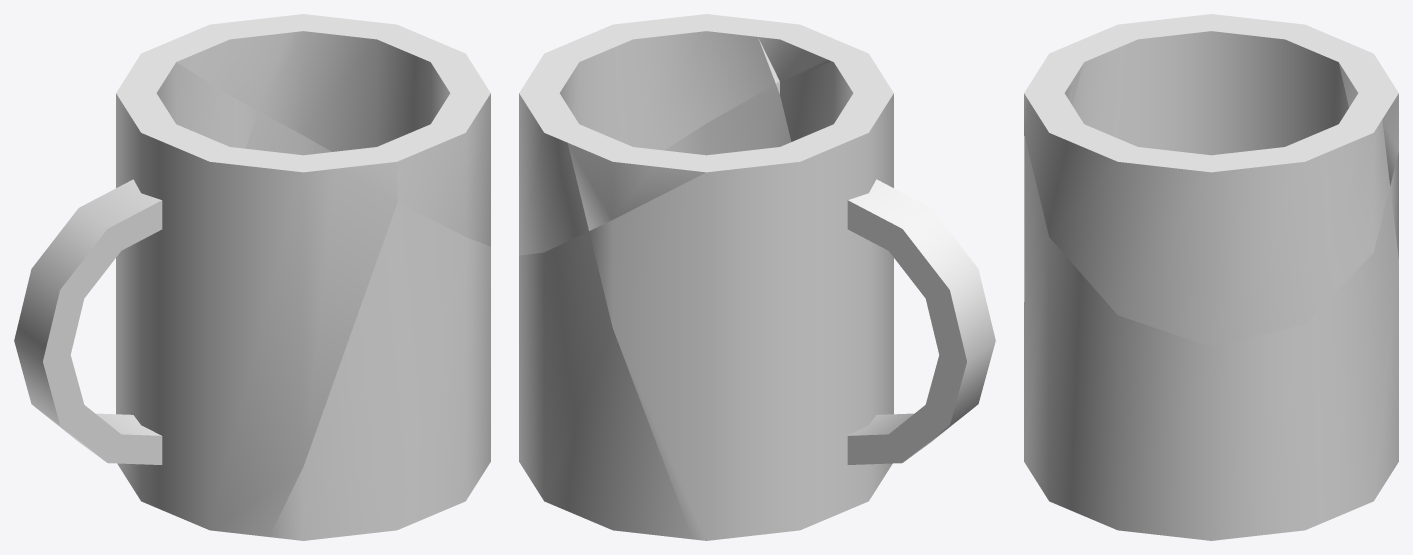
File: DES_Mug.fbx
3 renders of one model, left to right at view 1: azimuth 30°, elevation 25°; view 2: azimuth 150°, elevation 25°; view 3: azimuth 270°, elevation 25°, orthographic.
Visible parts, largest first — view 1: MugBrokenPiece_4, MugBrokenPiece_3, MugBrokenPiece_2, MugBrokenPiece_1, MugBrokenPiece_5; view 2: MugBrokenPiece_4, MugBrokenPiece_3, MugBrokenPiece_2, MugBrokenPiece_1, MugBrokenPiece_5; view 3: MugBrokenPiece_3, MugBrokenPiece_2, MugBrokenPiece_4, MugBrokenPiece_5.
Boxes of the visible parts, x1,y1,x2,y2 form: MugBrokenPiece_4: (116, 53, 409, 536); MugBrokenPiece_3: (245, 111, 490, 540); MugBrokenPiece_2: (259, 14, 490, 246); MugBrokenPiece_1: (14, 179, 162, 464); MugBrokenPiece_5: (141, 17, 286, 110); MugBrokenPiece_4: (589, 22, 893, 540); MugBrokenPiece_3: (519, 81, 791, 539); MugBrokenPiece_2: (519, 14, 782, 255); MugBrokenPiece_1: (847, 179, 995, 464); MugBrokenPiece_5: (567, 129, 706, 230); MugBrokenPiece_3: (1024, 135, 1398, 540); MugBrokenPiece_2: (1024, 100, 1390, 346); MugBrokenPiece_4: (1024, 14, 1398, 258); MugBrokenPiece_5: (1338, 53, 1398, 185).
Size of the model in its own units: 15.04 by 12.11 by 11.16.
